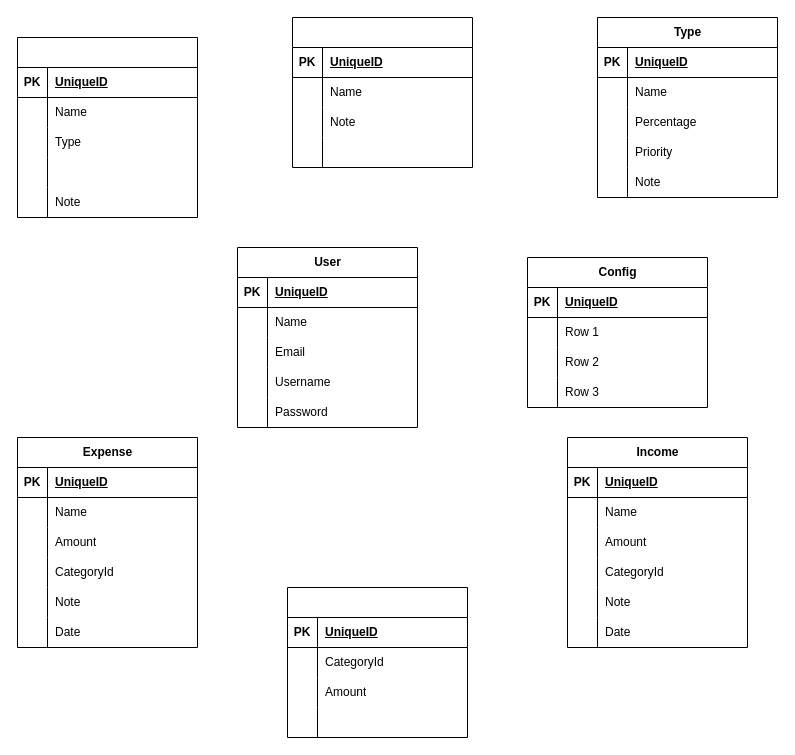
Some shapes in this 795 by 755 pixel diagram are drawn without their labels. Each missing label, with the box of its shape:
Budget: (286, 586, 468, 738)
ExCategory: (16, 36, 198, 218)
InCategory: (292, 16, 472, 168)
